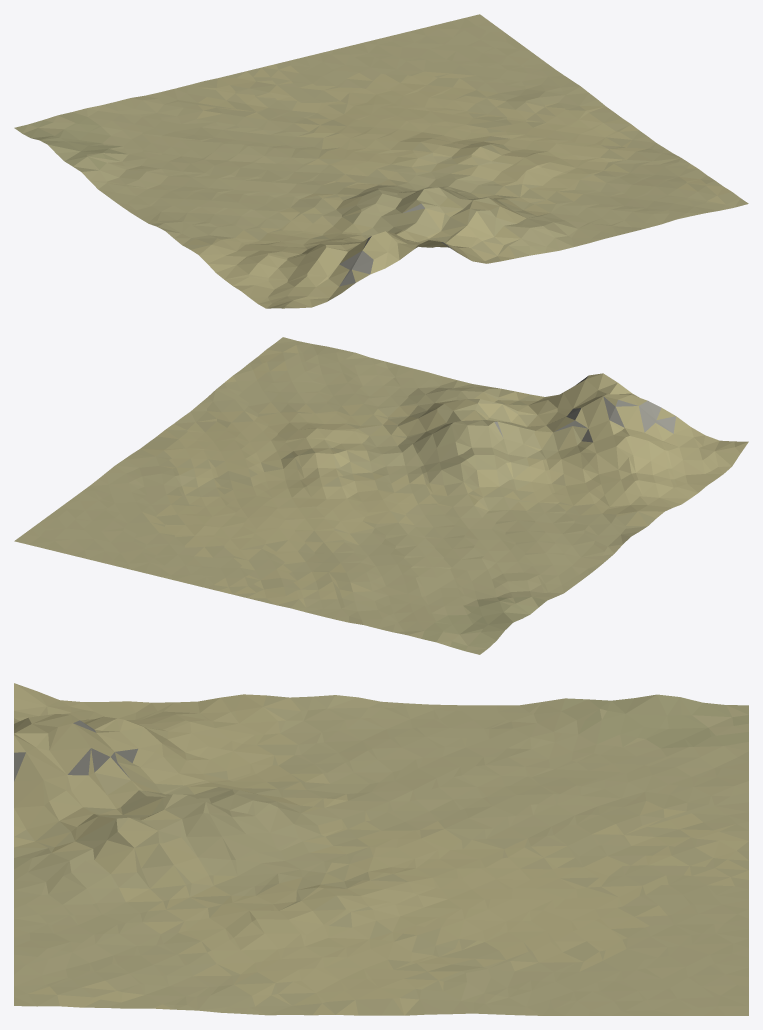
The model's file is Ground_3_3.glb.
3 views of the same model, one above another, from view 1: azimuth 30°, elevation 25°; view 2: azimuth 150°, elevation 25°; view 3: azimuth 270°, elevation 25° (orthographic). The views are drawn at different scales.
Visible parts, largest first — view 1: Ground_3_3; view 2: Ground_3_3; view 3: Ground_3_3.
Part boxes in pixels (x1,y1,x2,y2): Ground_3_3: [14, 14, 748, 308]; Ground_3_3: [14, 337, 748, 654]; Ground_3_3: [14, 683, 748, 1015].
Size of the model in its own units: 768 by 77.37 by 768.
